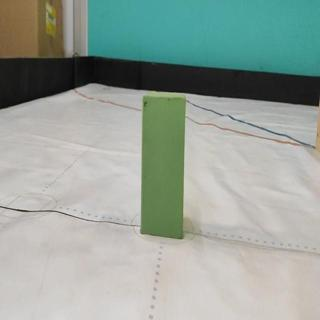greenbox: (140, 91, 186, 241)
